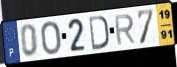0: (19, 22, 39, 58)
2: (68, 17, 89, 54)
7: (137, 8, 156, 46)
D: (87, 14, 110, 52)
O: (40, 19, 62, 56)
R: (113, 13, 137, 47)
